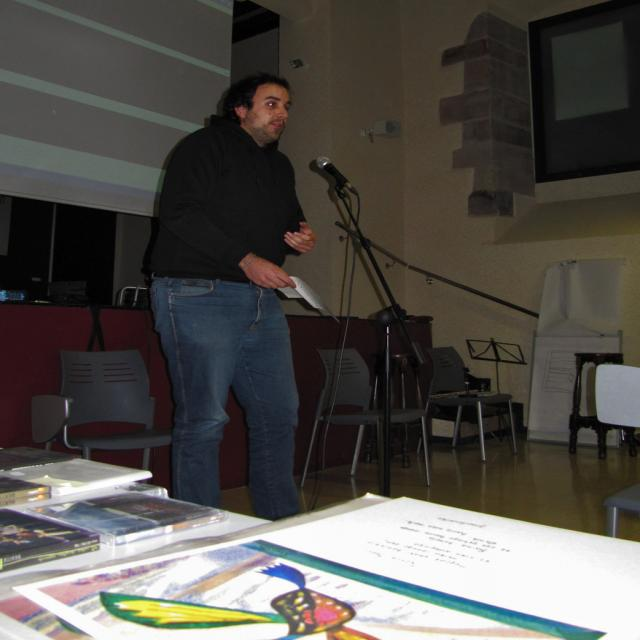chair: (58, 349, 173, 480), (296, 347, 382, 508), (422, 346, 516, 463), (567, 357, 624, 458)
desk: (0, 300, 432, 491)
person: (144, 72, 318, 520)
tv: (529, 0, 639, 194)
